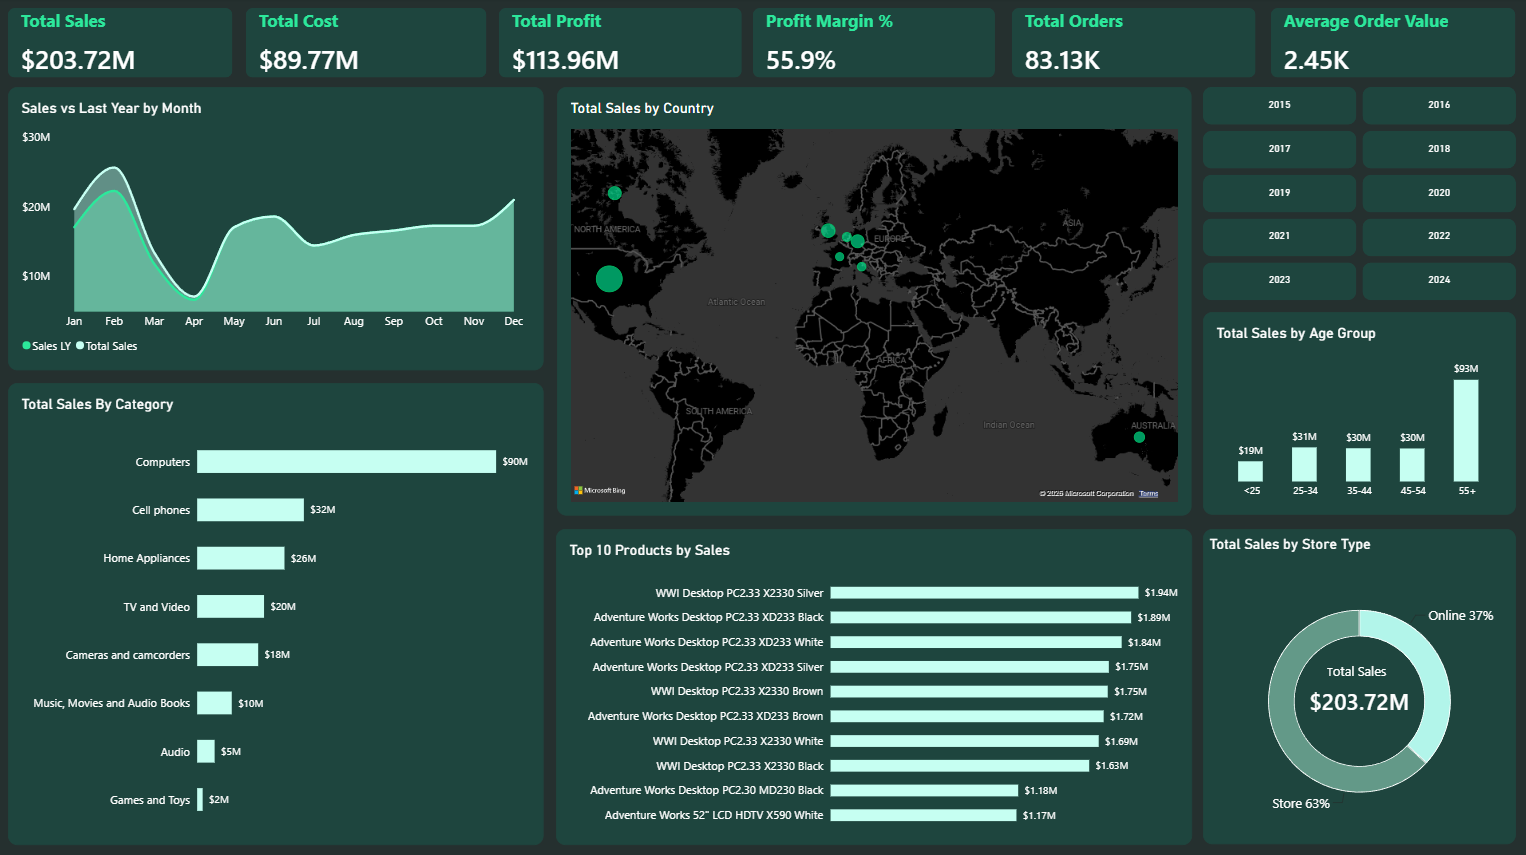

The page's visual inventory and layout, read from the dashboard file:
{"tool":"powerbi","page":{"name":"Page 1","canvas":[1920,1080],"ordinal":0},"visuals":[{"type":"cardVisual","fields":{"Data":["Measures (2).Total Sales"]},"box":[14.6,11.9,281.8,87.3],"z":0},{"type":"cardVisual","fields":{"Data":["Measures (2).Total Profit"]},"box":[629.9,11.9,304.3,87.3],"z":1000},{"type":"cardVisual","fields":{"Data":["Measures (2).Total Cost"]},"box":[313.6,11.9,301.7,87.3],"z":2000},{"type":"cardVisual","fields":{"Data":["Measures (2).Profit Margin %"]},"box":[948.8,11.9,303,87.3],"z":3000},{"type":"cardVisual","fields":{"Data":["Measures (2).Total Orders"]},"box":[1272.9,11.9,305.7,87.3],"z":4000},{"type":"areaChart","title":"Sales vs Last Year by Month","fields":{"Category":["Date.MonthShort"],"Y":["Measures (2).Sales LY","Measures (2).Total Sales"]},"box":[15.1,111.9,670.8,355.4],"z":5000},{"type":"advancedSlicerVisual","fields":{"Values":["Date.Year"]},"box":[1512.3,111.5,392,268.3],"z":6000},{"type":"clusteredBarChart","title":"Total Sales By Category","fields":{"Category":["Product.Category"],"Y":["Measures (2).Total Sales"]},"box":[15.1,482.3,671.2,579],"z":7000},{"type":"map","title":"Total Sales by Country","fields":{"Category":["Store.Country","Customer.City"],"Size":["Measures (2).Total Sales"]},"box":[703,111.9,795.2,536.7],"z":8000},{"type":"clusteredBarChart","title":"Top 10 Products by Sales","fields":{"Category":["Product.ProductName"],"Y":["Measures (2).Total Sales"]},"box":[701.5,665.2,796.7,396.1],"z":9000},{"type":"donutChart","title":"Total Sales by Store Type","fields":{"Category":["Store.Store Type"],"Y":["Measures (2).Total Sales"]},"box":[1512.3,665.6,392,395.5],"z":10000},{"type":"cardVisual","fields":{"Data":["Measures (2).Average Order Value"]},"box":[1597.1,11.9,307,87.3],"z":11000},{"type":"clusteredColumnChart","title":"Total Sales by Age Group","fields":{"Category":["Customer.Age Group"],"Y":["Measures (2).Total Sales"]},"box":[1512.3,393.8,392,254.4],"z":12000},{"type":"textbox","box":[1668,832,113.4,37.8],"z":13000}]}

Visuals, with their boxes in screenshot pixels (x1, y1, x2, y2), scaled from the page's 1920x1080 canvas onto the 1526x855 screenshot:
cardVisual - Measures (2).Total Sales: (12,9,236,79)
cardVisual - Measures (2).Total Profit: (501,9,742,79)
cardVisual - Measures (2).Total Cost: (249,9,489,79)
cardVisual - Measures (2).Profit Margin %: (754,9,995,79)
cardVisual - Measures (2).Total Orders: (1012,9,1255,79)
"Sales vs Last Year by Month" areaChart: (12,89,545,370)
advancedSlicerVisual - Date.Year: (1202,88,1514,301)
"Total Sales By Category" clusteredBarChart: (12,382,545,840)
"Total Sales by Country" map: (559,89,1191,513)
"Top 10 Products by Sales" clusteredBarChart: (558,527,1191,840)
"Total Sales by Store Type" donutChart: (1202,527,1514,840)
cardVisual - Measures (2).Average Order Value: (1269,9,1513,79)
"Total Sales by Age Group" clusteredColumnChart: (1202,312,1514,513)
textbox: (1326,659,1416,689)
